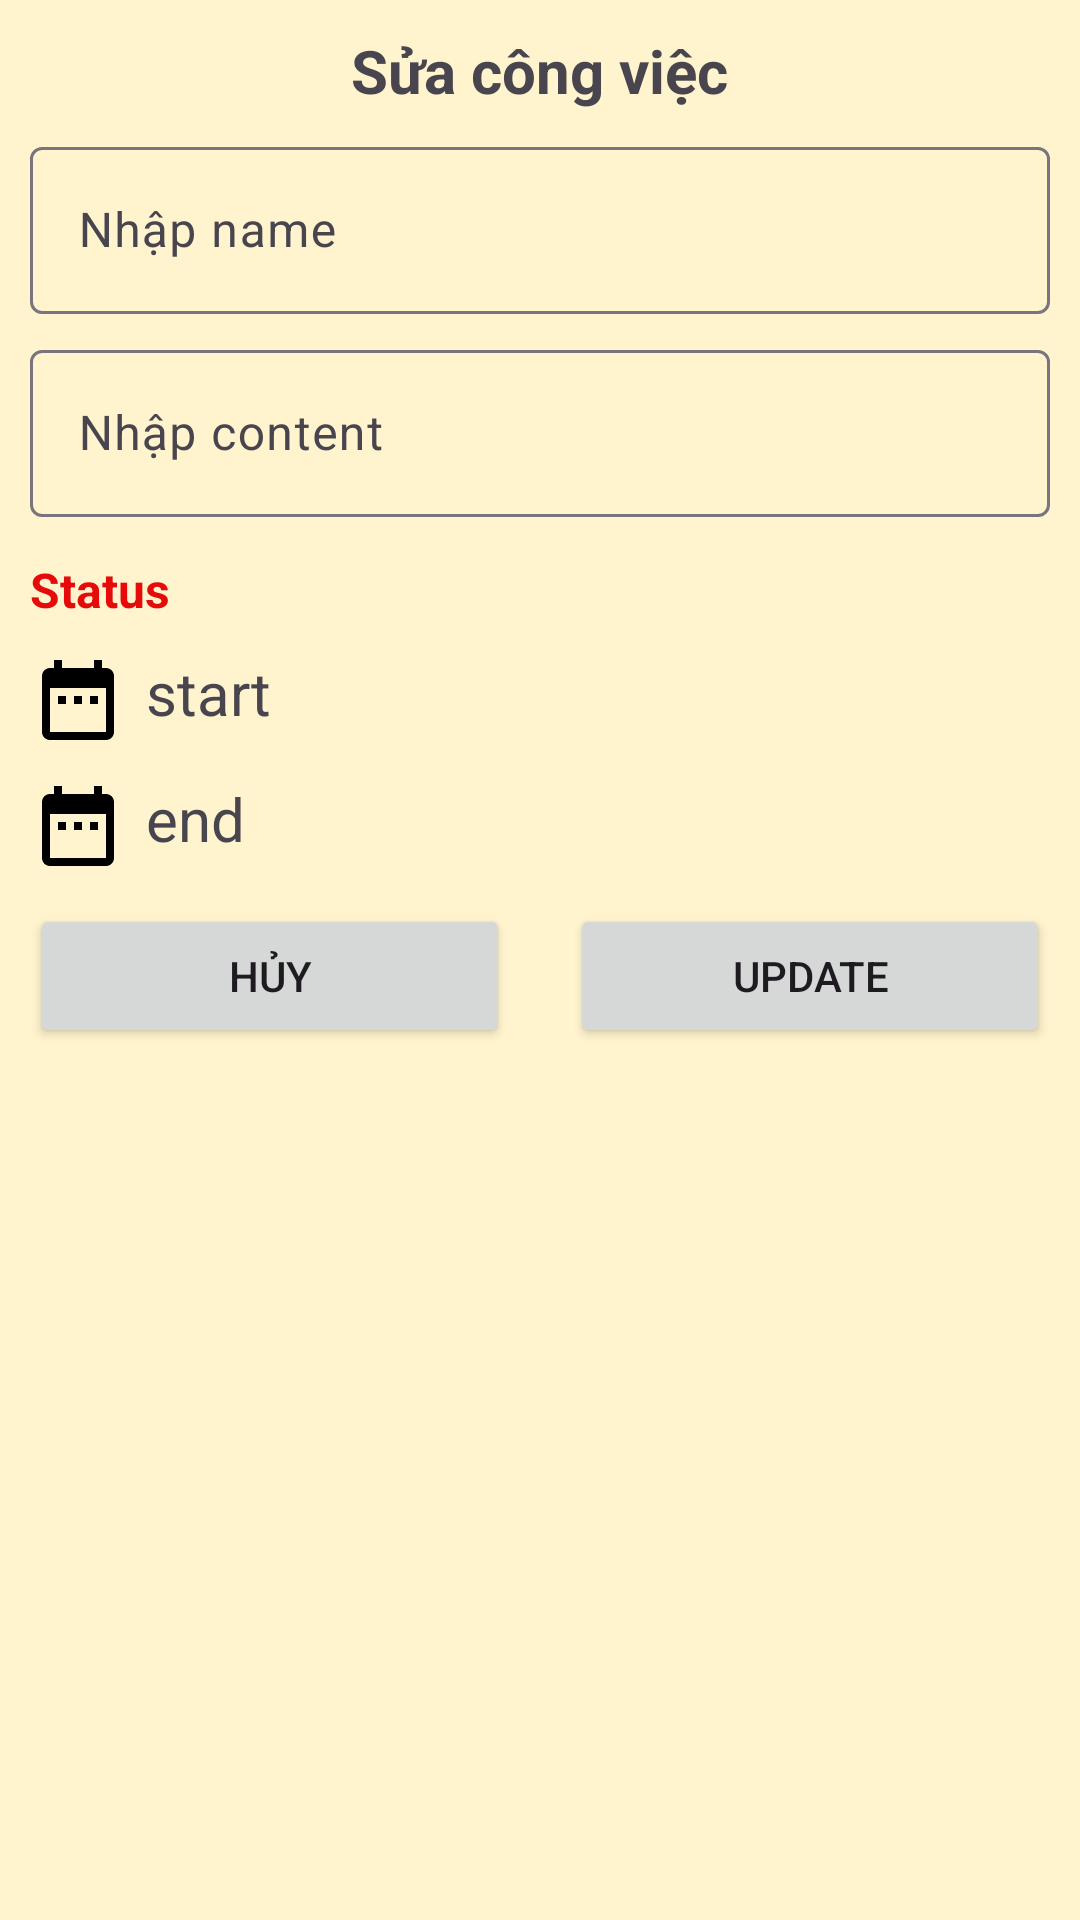

Named icons in this screenshot (1080×1920) and their centers, [x,y]:
date: [78,700], [78,826]
